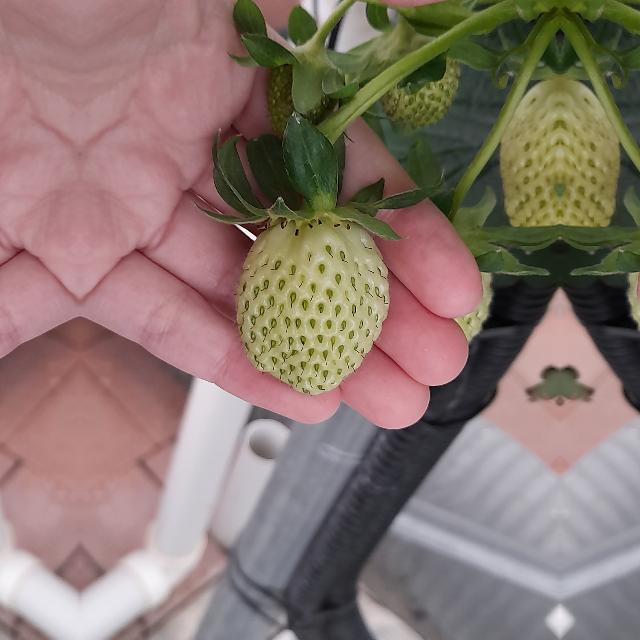Health_25: (234, 218, 390, 396)
